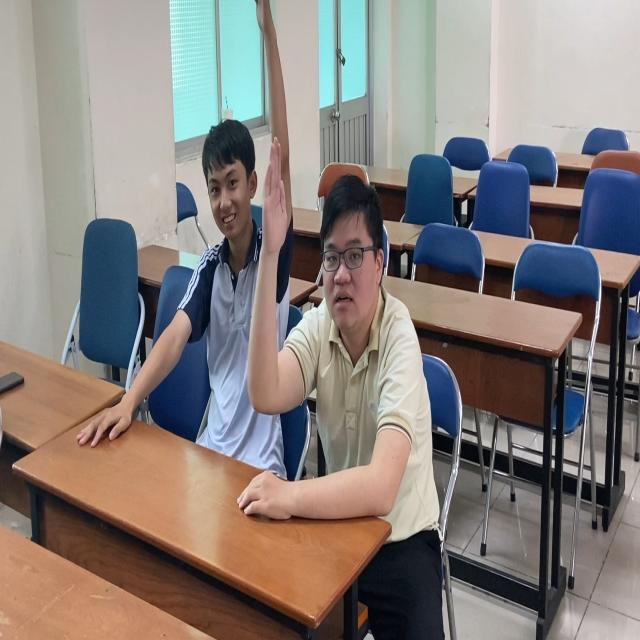raise_hand: (252, 133, 430, 532), (155, 1, 291, 479)
